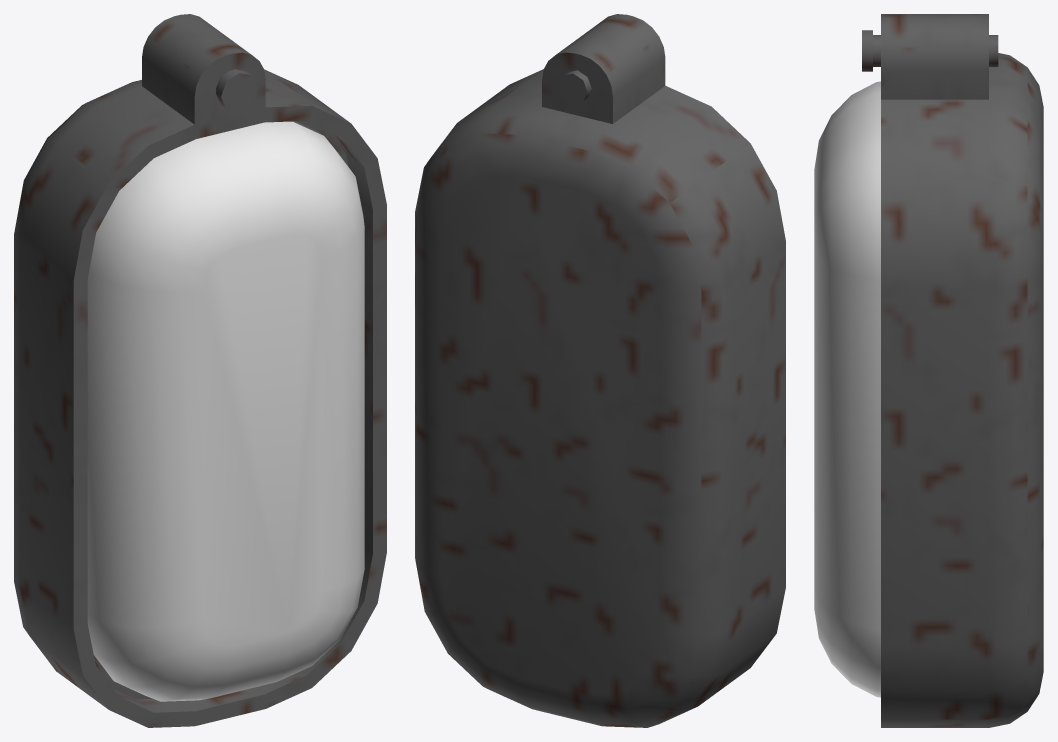
The model's file is SmallLamp.fbx.
3 views of the same model, side by side, from view 1: azimuth 30°, elevation 25°; view 2: azimuth 150°, elevation 25°; view 3: azimuth 270°, elevation 25° (orthographic). The views are drawn at different scales.
Visible parts, largest first — view 1: Cube.061; view 2: Cube.061; view 3: Cube.061.
Boxes of the visible parts, x1,y1,x2,y2 form: Cube.061: (14, 14, 386, 727); Cube.061: (415, 14, 785, 727); Cube.061: (814, 14, 1043, 727).
Size of the model in its own units: 43.39 by 87.78 by 26.87.
